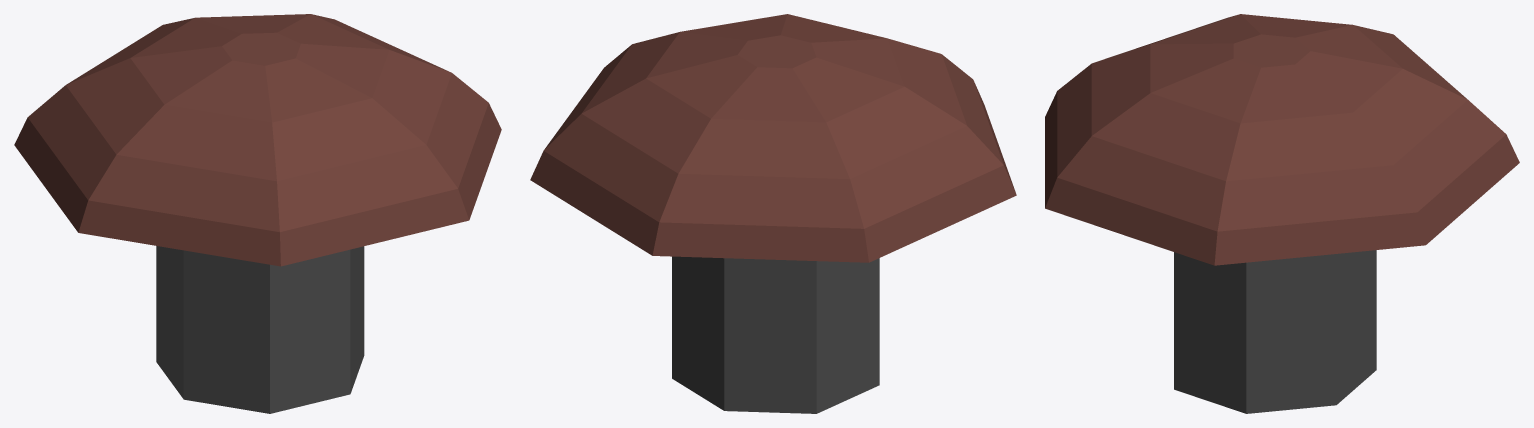
The model's file is MushroomBrown.fbx.
3 renders of one model, left to right at view 1: azimuth 30°, elevation 25°; view 2: azimuth 150°, elevation 25°; view 3: azimuth 270°, elevation 25°, orthographic.
Visible parts, largest first — view 1: Cylinder; view 2: Cylinder; view 3: Cylinder.
Boxes of the visible parts, bbox=[...] form: Cylinder: bbox=[14, 14, 501, 413]; Cylinder: bbox=[530, 14, 1016, 413]; Cylinder: bbox=[1045, 14, 1519, 413].
Bounding box in the file's own units: 45.74 × 33.05 × 44.59.
